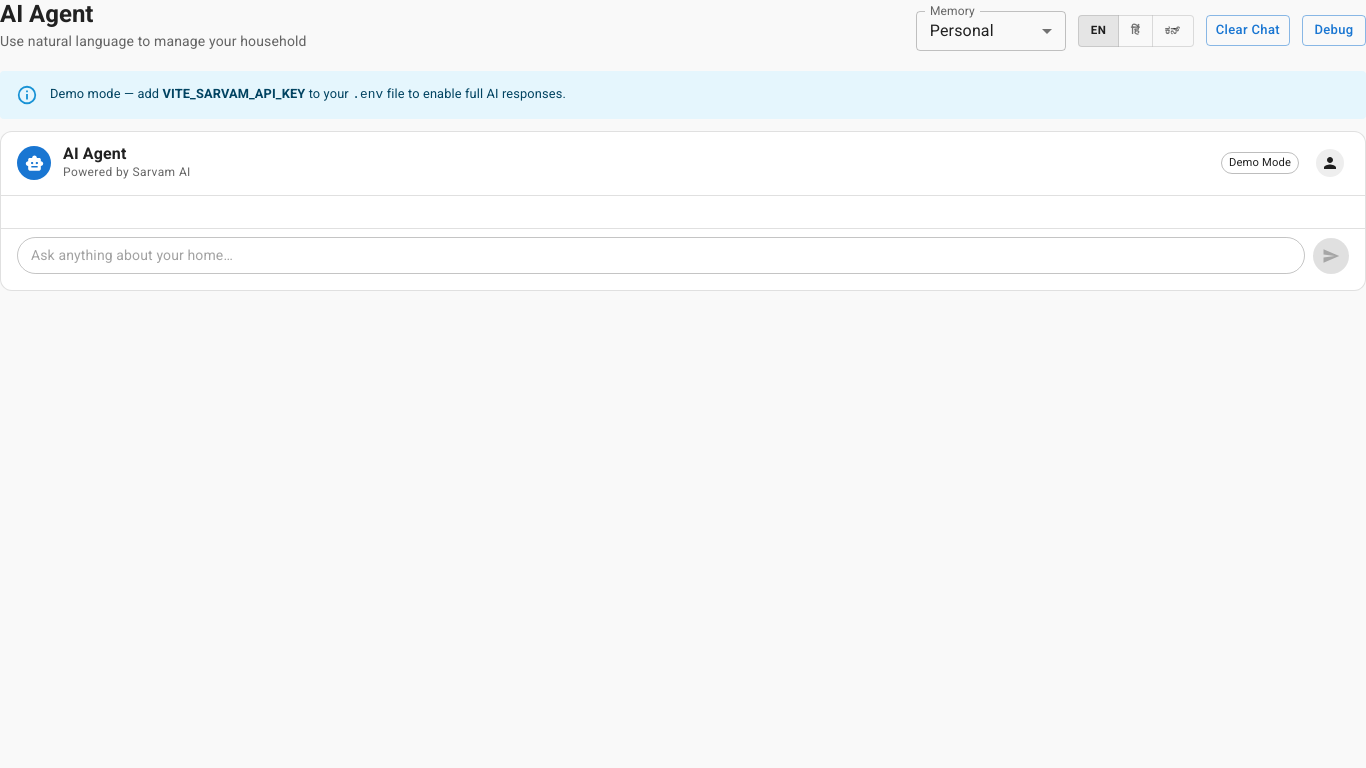
Test case: ChatInterface delete chores flow › specific select -> choose chore -> delete selected
The image size is (1366, 768).
Type "delete chores" into the text box with placeholder "Ask anything about your home…".
click(661, 255); type("delete chores")  # box [31,245,1291,265]
Then press Enter
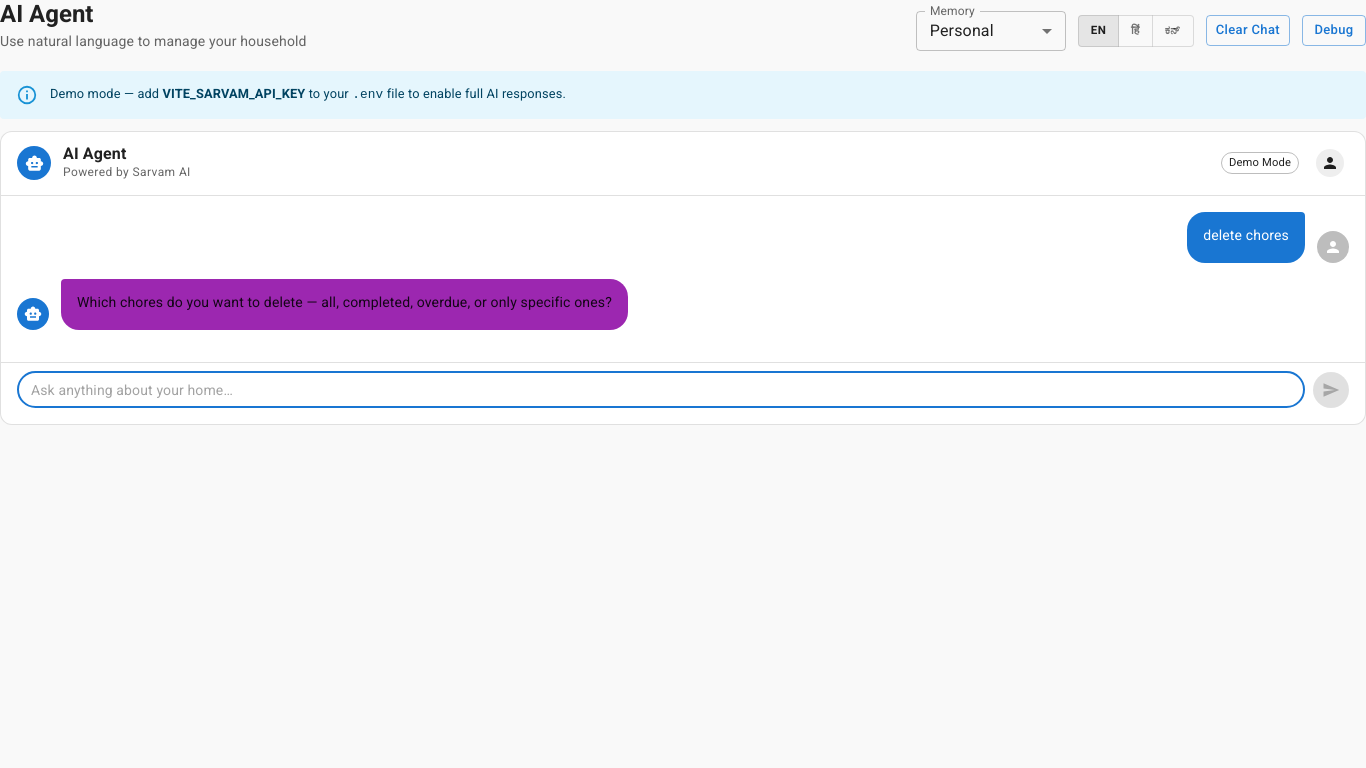
Type "specific ones" into the text box with placeholder "Ask anything about your home…".
click(661, 390); type("specific ones")  # box [31,380,1291,400]
Then press Enter
(page scrolled)
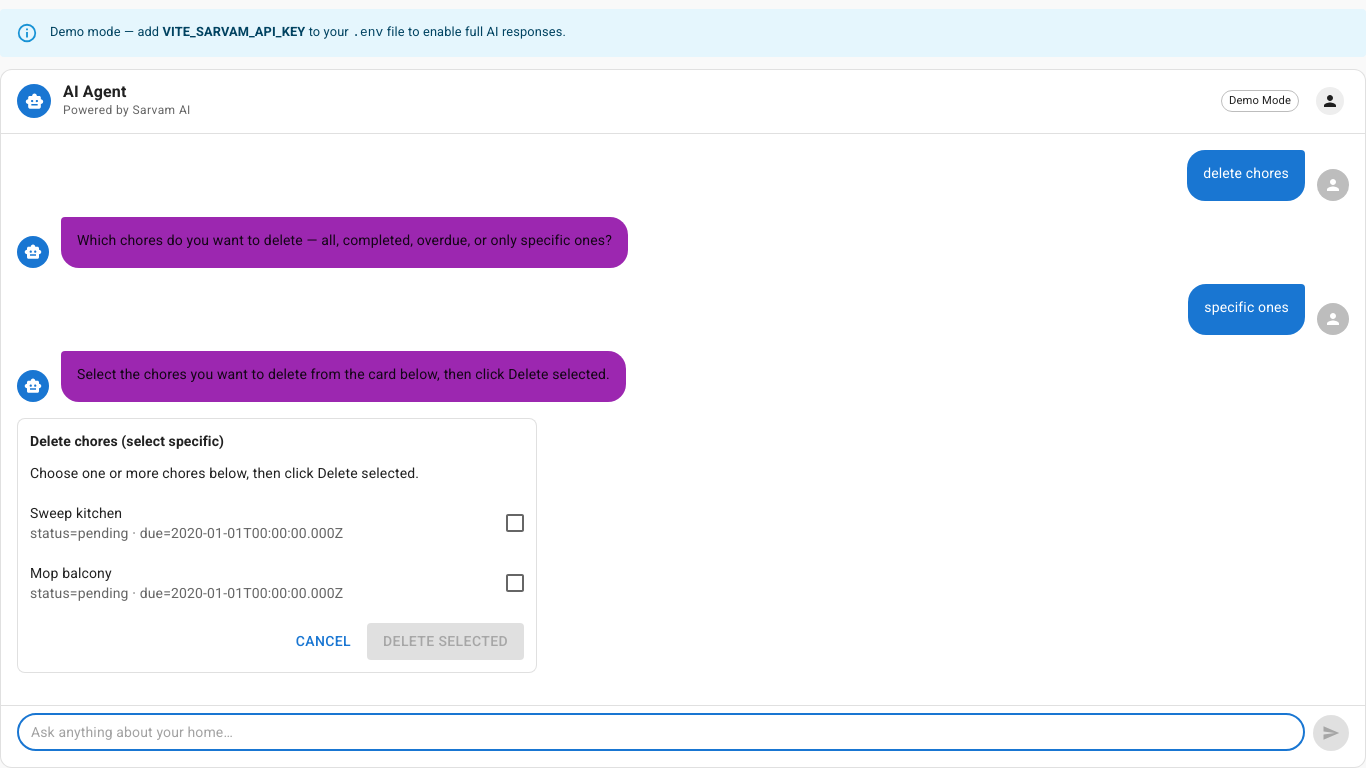
Expected: the heading "Delete chores (select specific)" is shown, [30,433,224,449]
Expected: the list item "Sweep kitchen" is shown, [30,505,122,521]
Click the checkbox in the row of "Sweep kitchen".
click(515, 523)  # box [503,511,527,535]
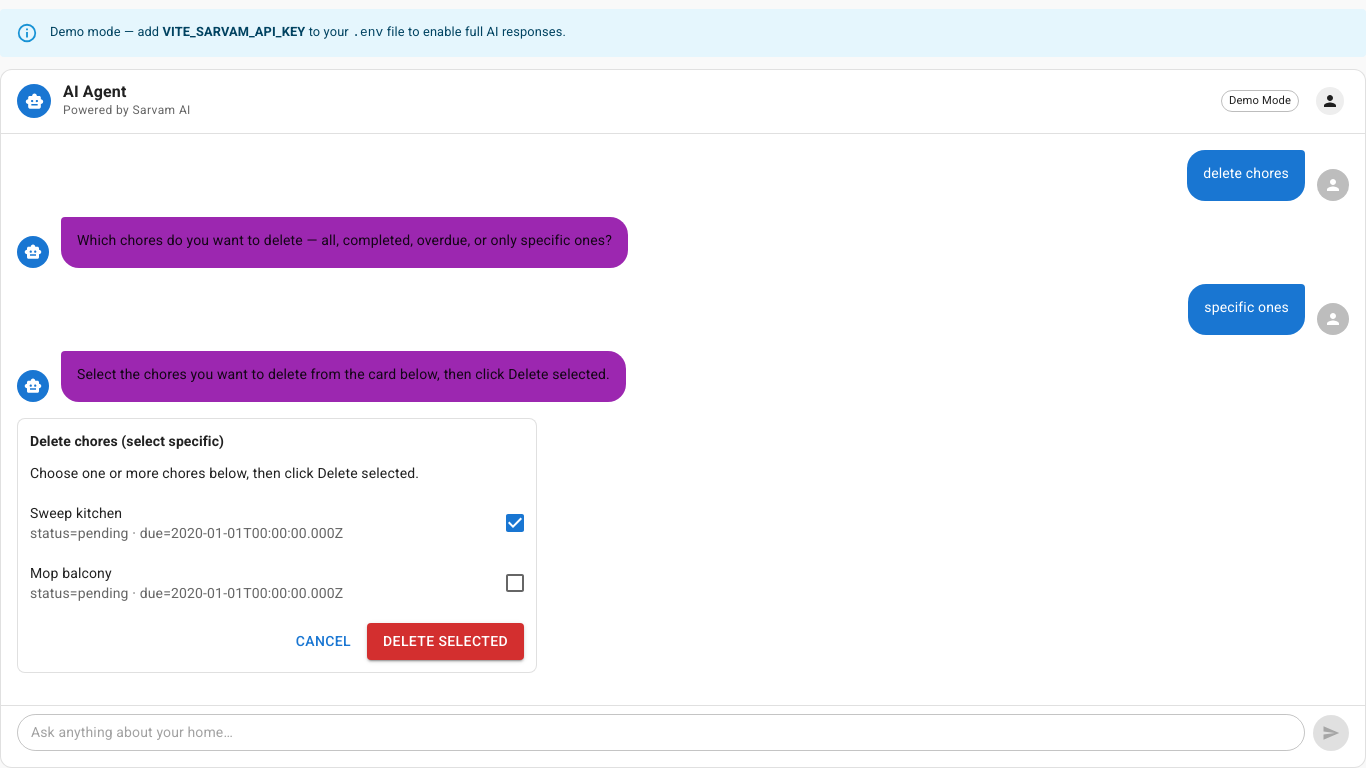
Click the button "Delete selected".
click(446, 642)  # box [367,623,524,660]
(page scrolled)
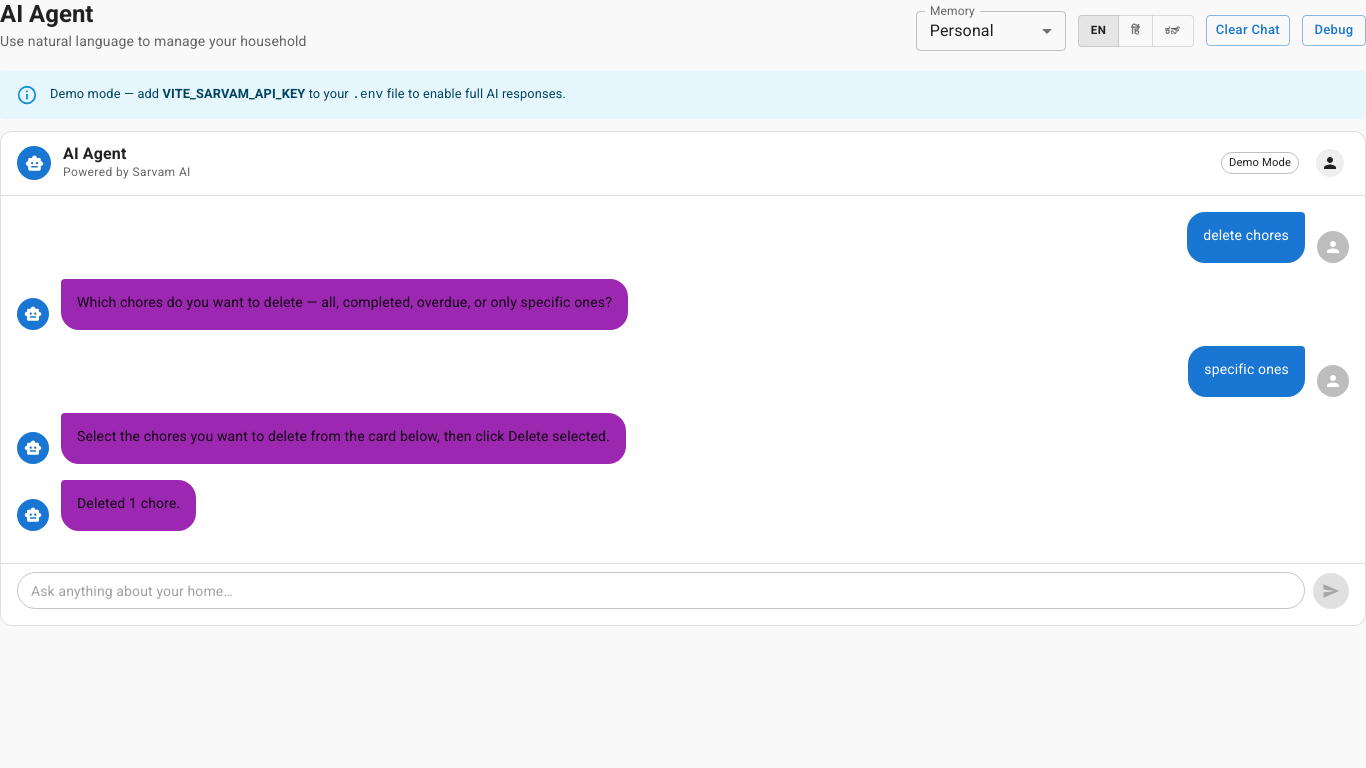
Expected: the text "Deleted 1 chore." is shown, [77,492,180,515]
